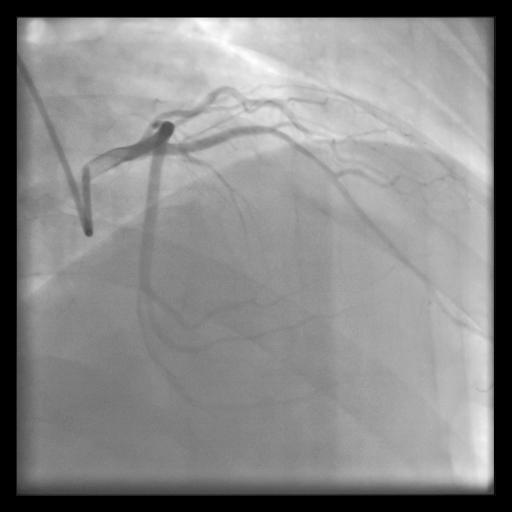Stenosis: (154, 106, 205, 120)
